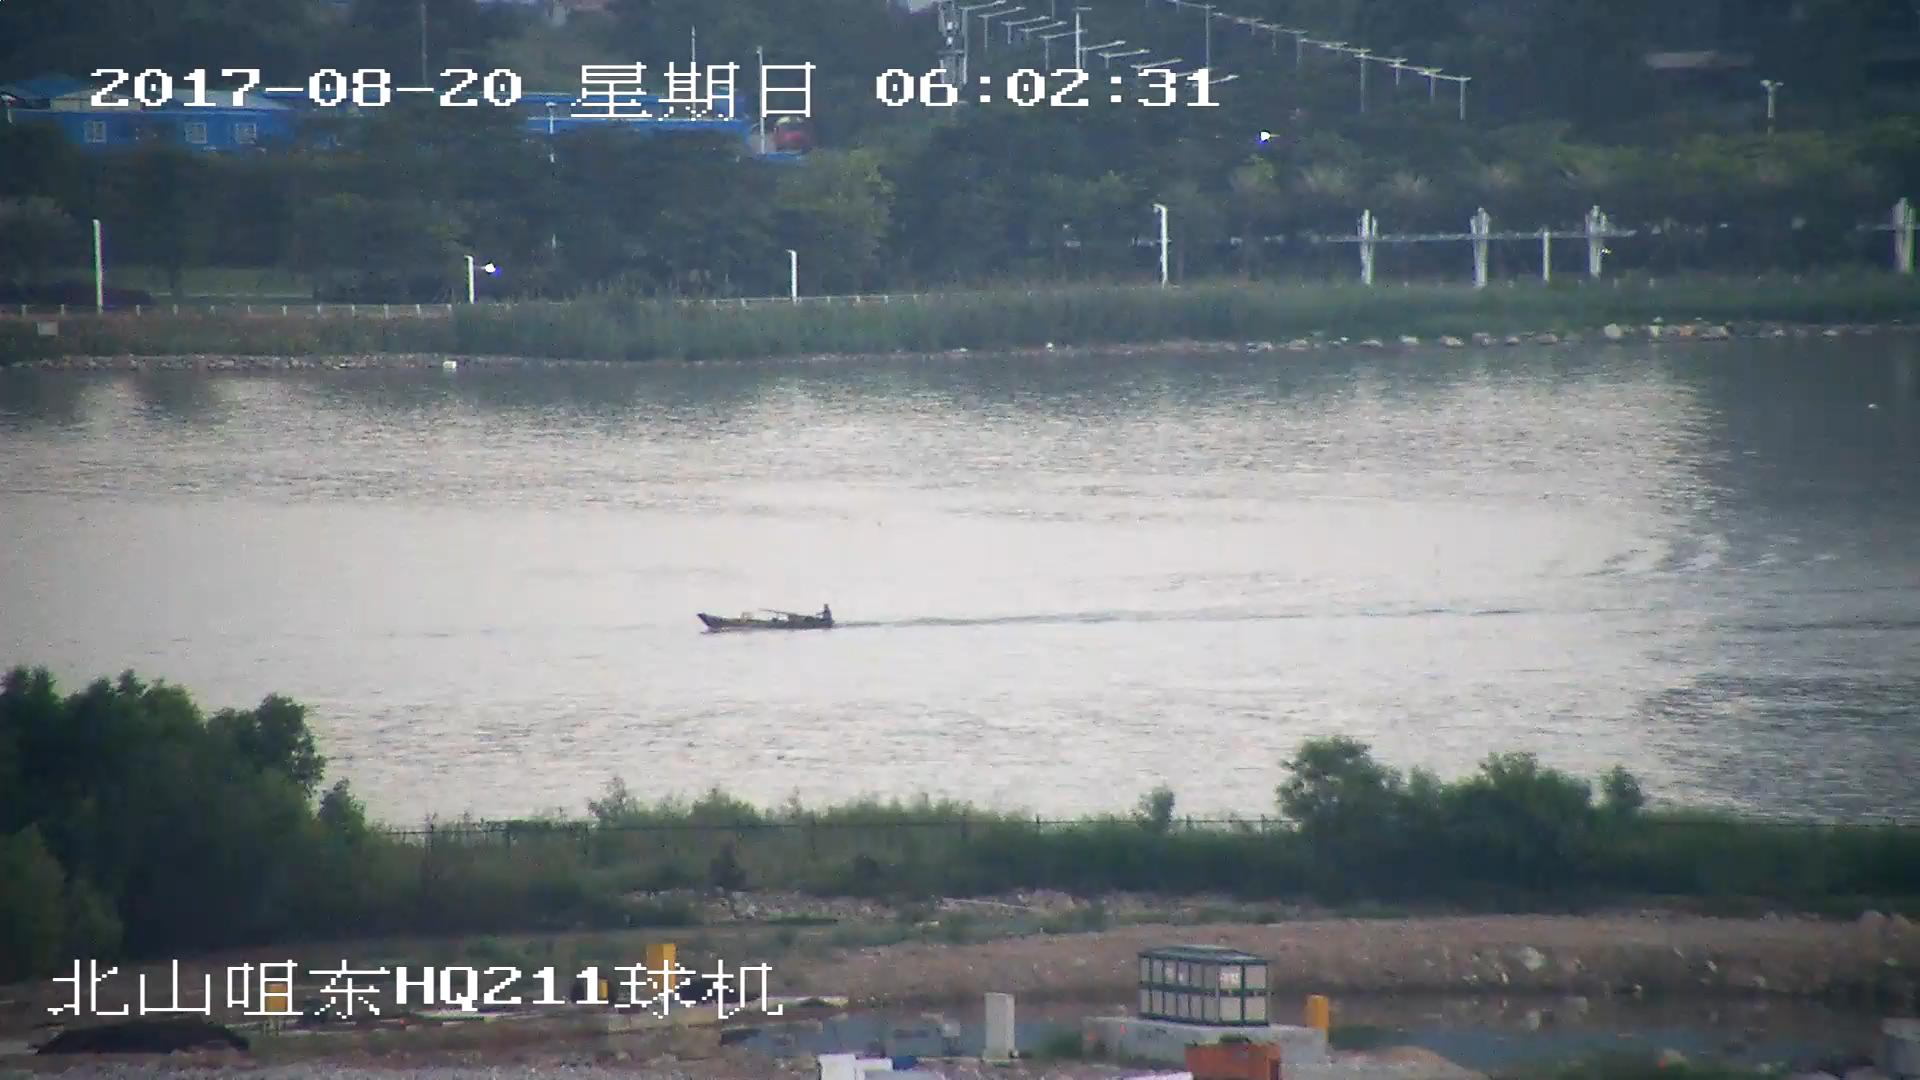fishing boat: (699, 604, 835, 630)
